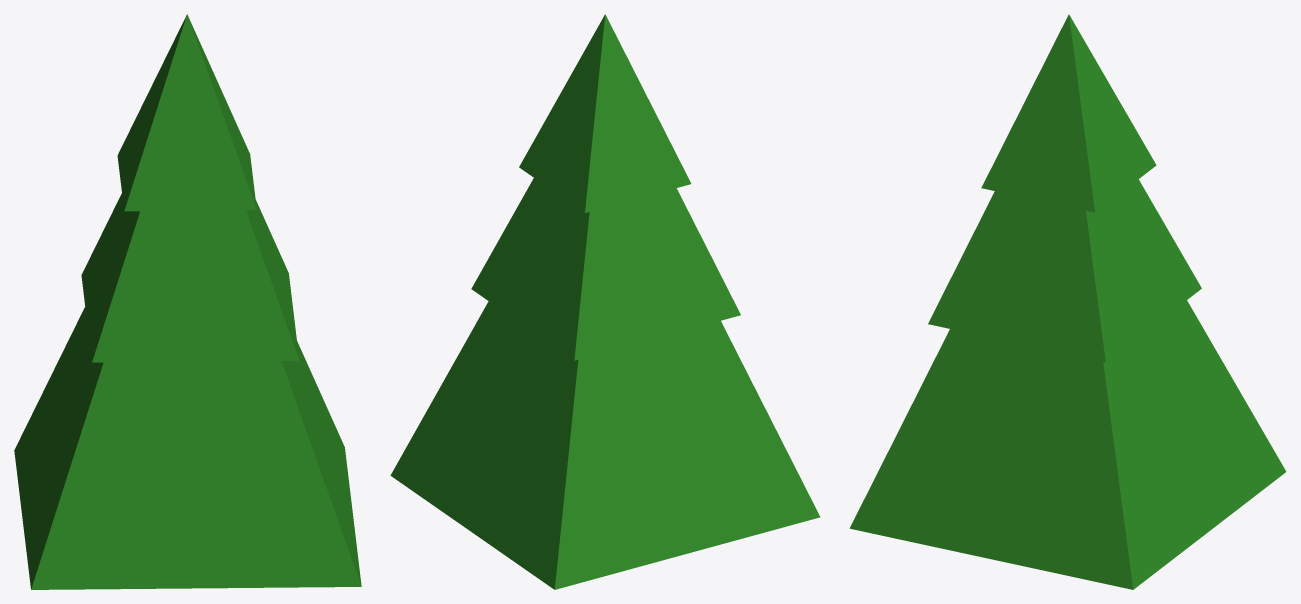
Rendered from PineTree.glb.
3 views of the same model, side by side, from view 1: azimuth 30°, elevation 25°; view 2: azimuth 150°, elevation 25°; view 3: azimuth 270°, elevation 25° (orthographic). The views are drawn at different scales.
Parts seen in each view (by area): view 1: Pyramid.028; view 2: Pyramid.028; view 3: Pyramid.028.
Boxes of the visible parts, x1=… form: Pyramid.028: x1=14, y1=14, x2=361, y2=589; Pyramid.028: x1=390, y1=14, x2=819, y2=589; Pyramid.028: x1=849, y1=14, x2=1286, y2=589.
Bounding box in the file's own units: 14.05 × 17.75 × 14.46.
